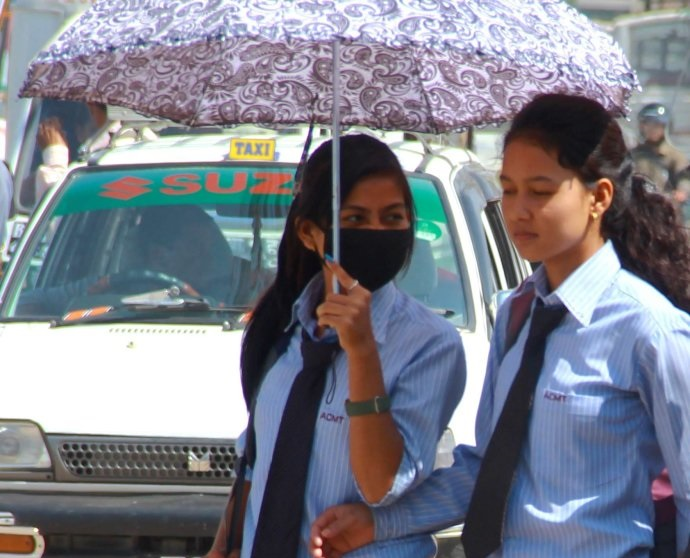face: (496, 143, 588, 259), (641, 118, 663, 140)
face_mask: (323, 178, 411, 275)
